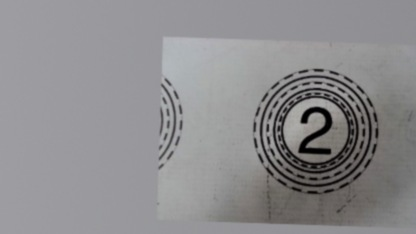2r: (247, 63, 381, 199)
